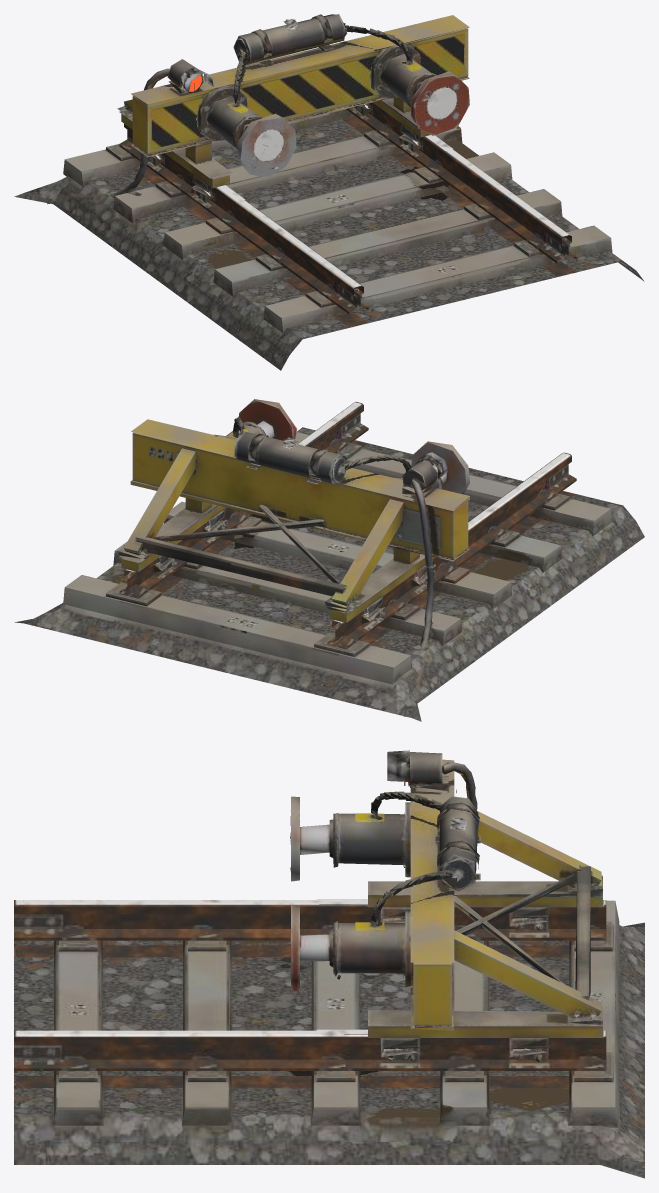
File: trilho_fim.glb
3 renders of one model, top to bottom at view 1: azimuth 30°, elevation 25°; view 2: azimuth 150°, elevation 25°; view 3: azimuth 270°, elevation 25°, orthographic. The views are drawn at different scales.
Parts seen in each view (by area): view 1: trilho_fim_corpo; view 2: trilho_fim_corpo; view 3: trilho_fim_corpo.
Part boxes in pixels (x1=…): trilho_fim_corpo: x1=14, y1=14, x2=644, y2=370; trilho_fim_corpo: x1=15, y1=399, x2=644, y2=721; trilho_fim_corpo: x1=14, y1=750, x2=644, y2=1178.
Bounding box in the file's own units: 0.9408 × 0.4101 × 0.98.
2 materials, 1 textured.
